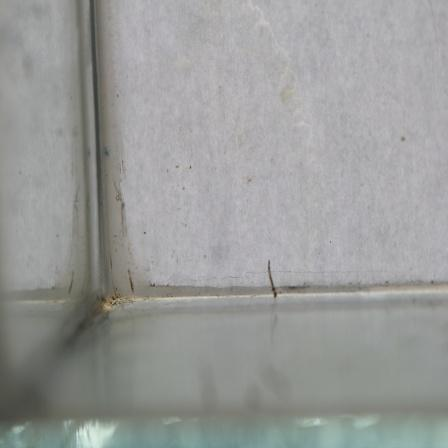Jentik-Nyamuk: (263, 257, 279, 299)
